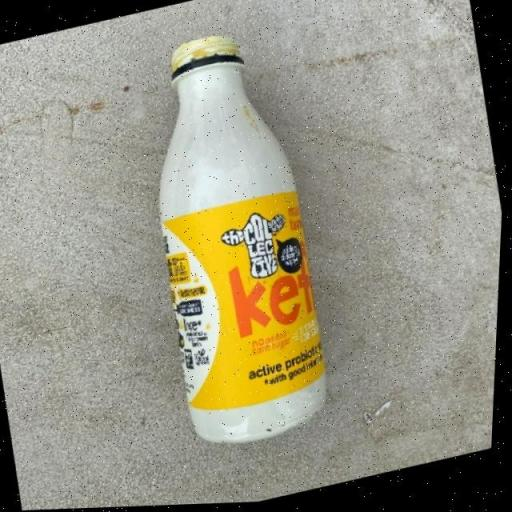plastic: (118, 20, 353, 459)
